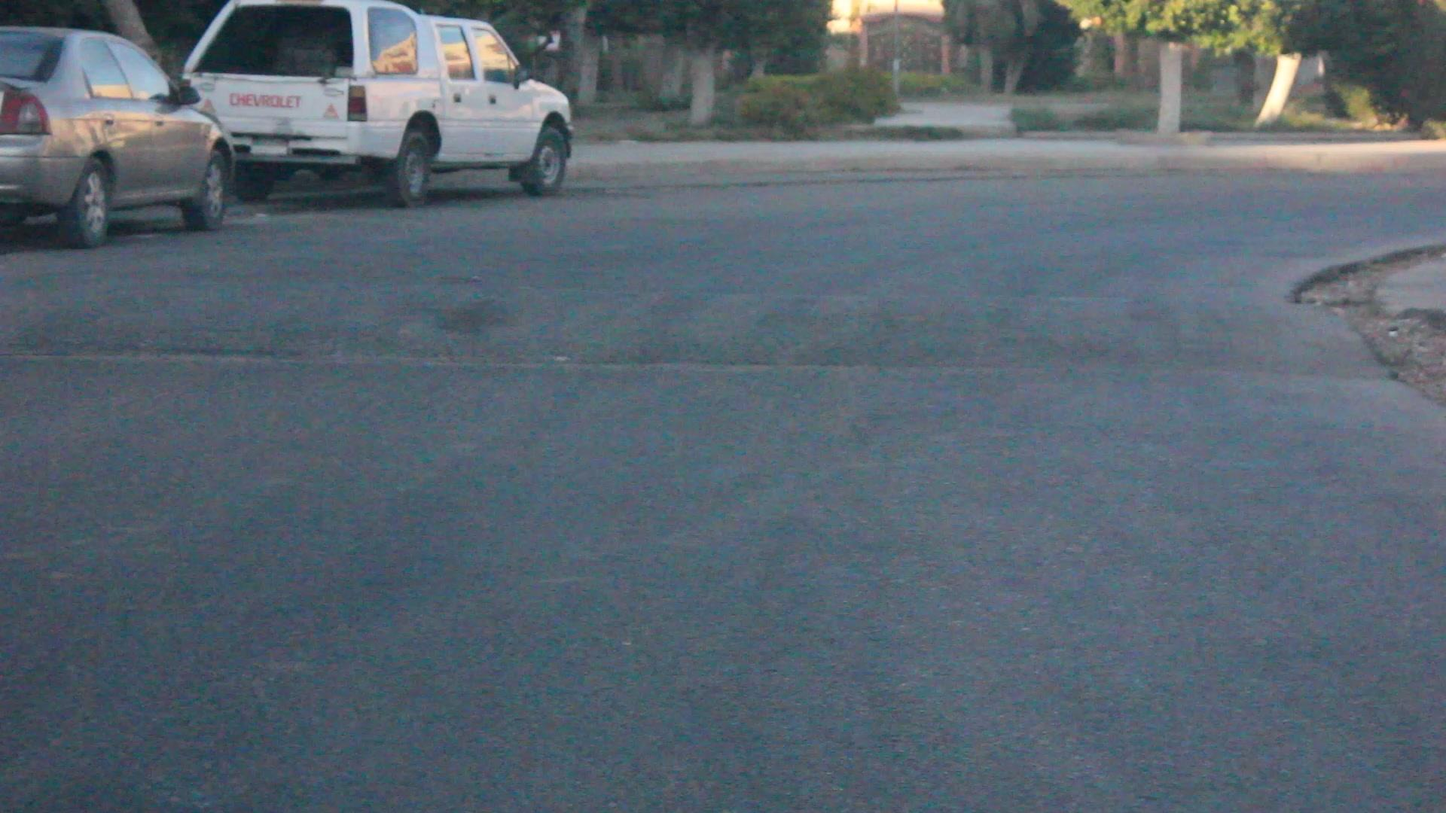Bump: (15, 230, 1391, 378)
Pothole: (1322, 216, 1446, 454)
